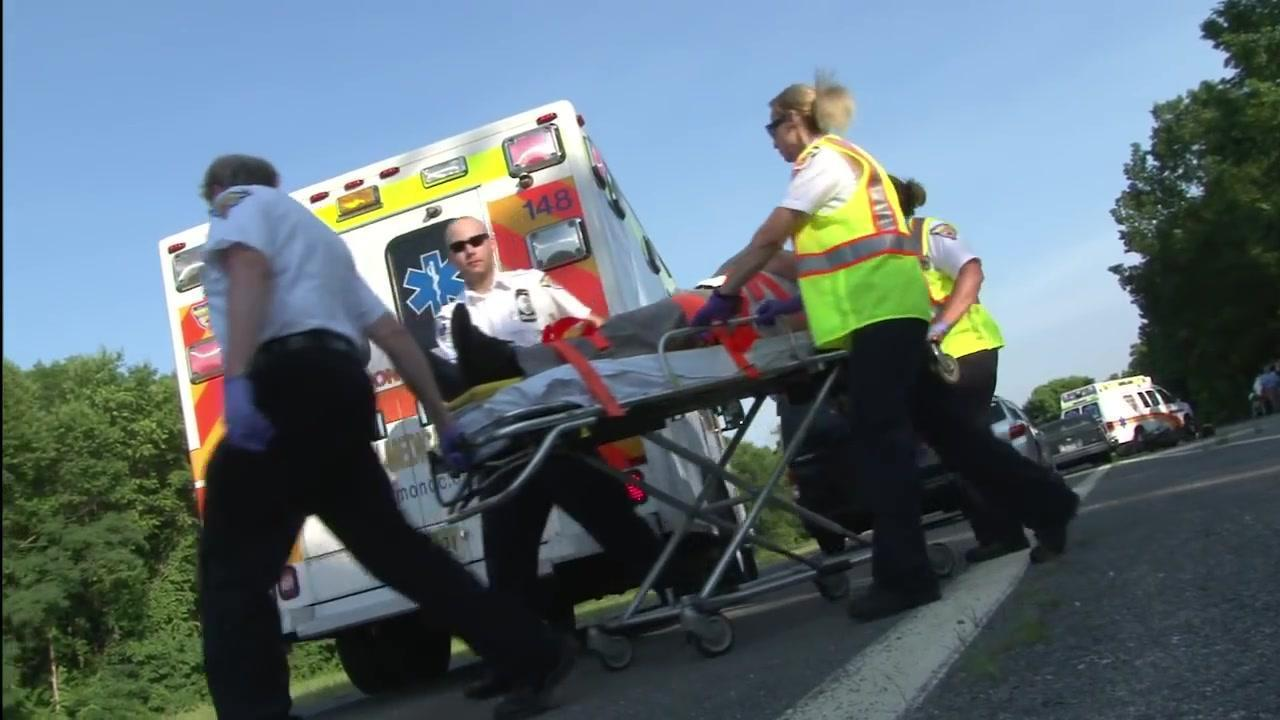vest: (786, 131, 932, 347), (905, 216, 1009, 361)
